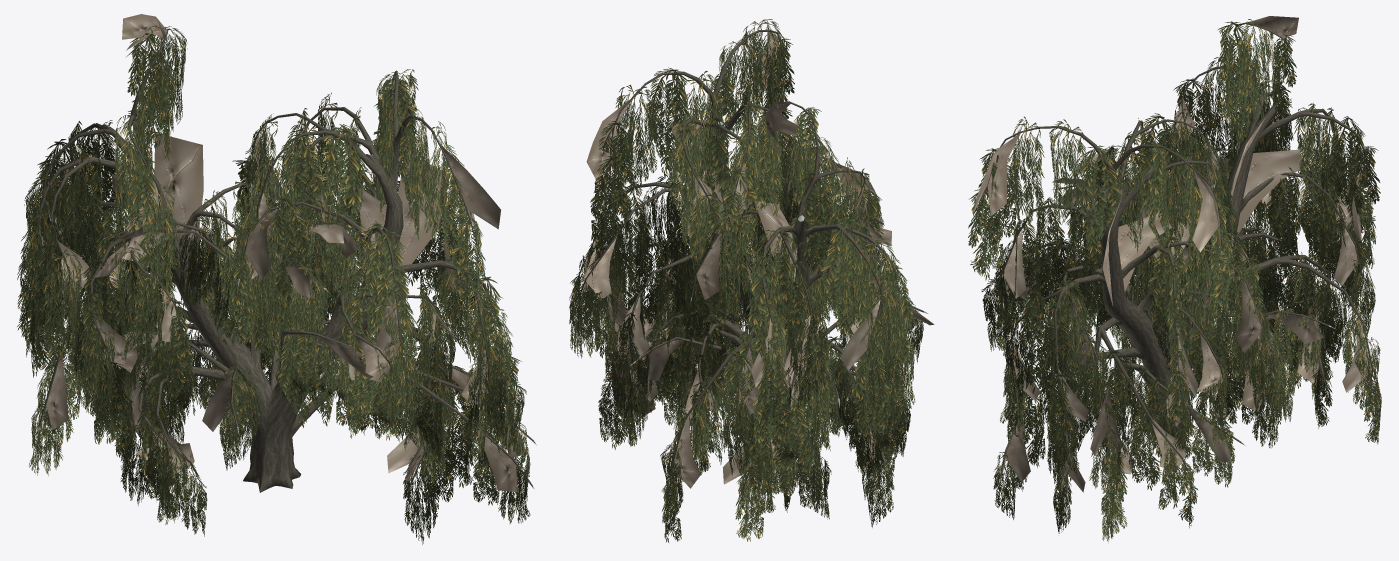
File: MarshWillow_1.fbx
3 views of the same model, side by side, from view 1: azimuth 30°, elevation 25°; view 2: azimuth 150°, elevation 25°; view 3: azimuth 270°, elevation 25° (orthographic). The views are drawn at different scales.
Visible parts, largest first — view 1: MarshWillow_1; view 2: MarshWillow_1; view 3: MarshWillow_1.
Part boxes in pixels (x1=…): MarshWillow_1: x1=17, y1=14, x2=536, y2=544; MarshWillow_1: x1=569, y1=19, x2=934, y2=542; MarshWillow_1: x1=968, y1=16, x2=1381, y2=542.
Size of the model in its own units: 36.52 by 43.02 by 36.41.
